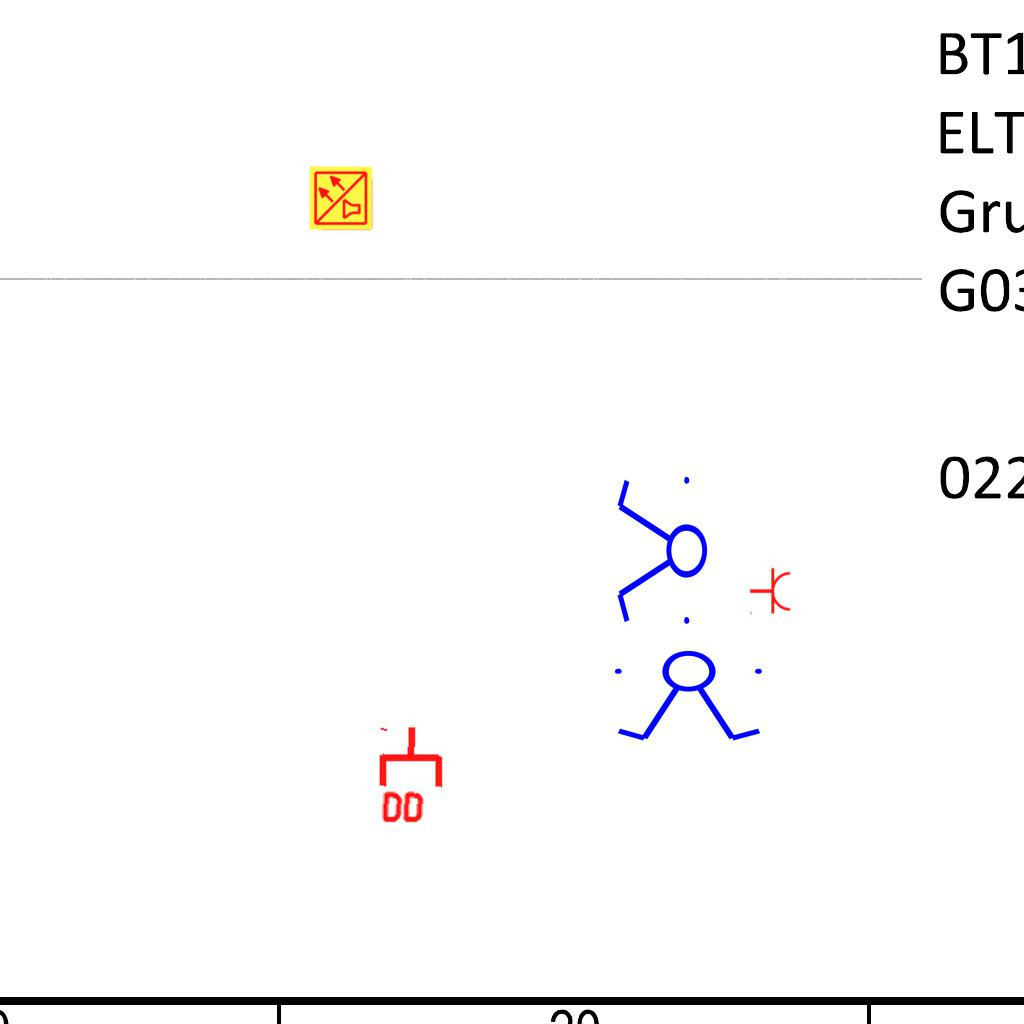Datenanschluss_zweifach: (377, 723, 448, 828)
OKW_Multisensormelder_(Kombination_optischer_Rauch-Kahlenmonoxid_Waerme-Melder): (308, 165, 374, 231)
Schukosteckdose_einfach: (749, 567, 792, 617)
Serienschalter: (613, 468, 709, 636), (606, 649, 774, 745)
